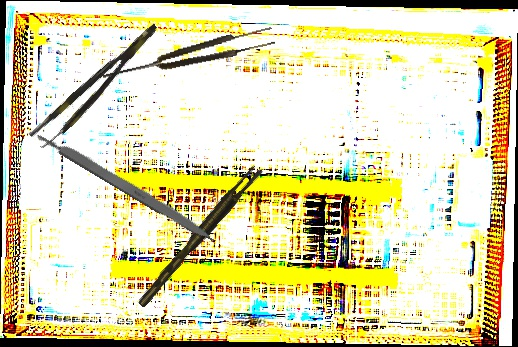Scalpel Handle: (34, 126, 219, 246)
Tissue Forceps: (130, 163, 268, 308), (27, 21, 169, 152), (100, 25, 276, 86)
